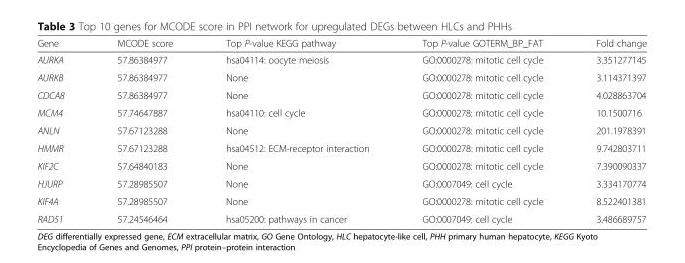table: (36, 37, 646, 224)
table column: (198, 37, 395, 224), (395, 37, 568, 224), (90, 37, 198, 224), (568, 37, 646, 224), (36, 37, 90, 224)
table column header: (36, 37, 646, 51)
table row: (36, 85, 646, 103), (36, 103, 646, 121), (36, 121, 646, 139), (36, 156, 646, 174), (36, 174, 646, 192), (36, 51, 646, 68), (36, 68, 646, 85), (36, 139, 646, 156), (36, 192, 646, 209), (36, 209, 646, 224), (36, 37, 646, 51)
